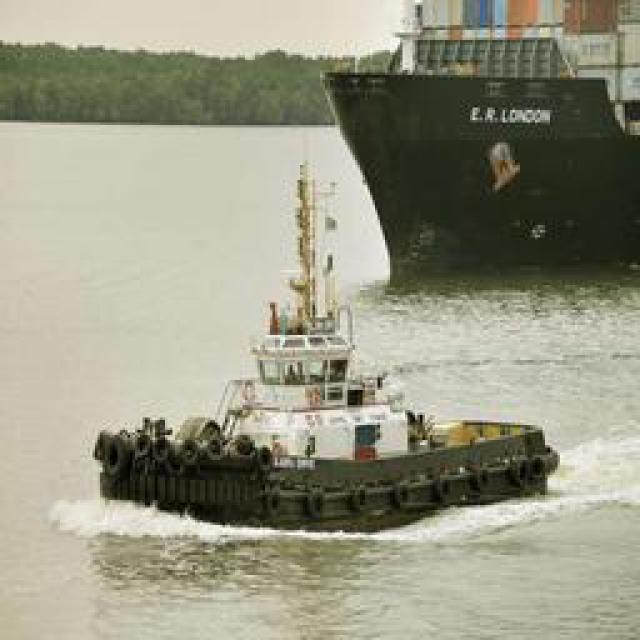Ship: (75, 122, 565, 522)
